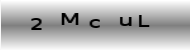2: (30, 17, 43, 30)
L: (138, 14, 150, 28)
M: (59, 12, 79, 25)
c: (89, 18, 100, 28)
u: (118, 16, 132, 26)
